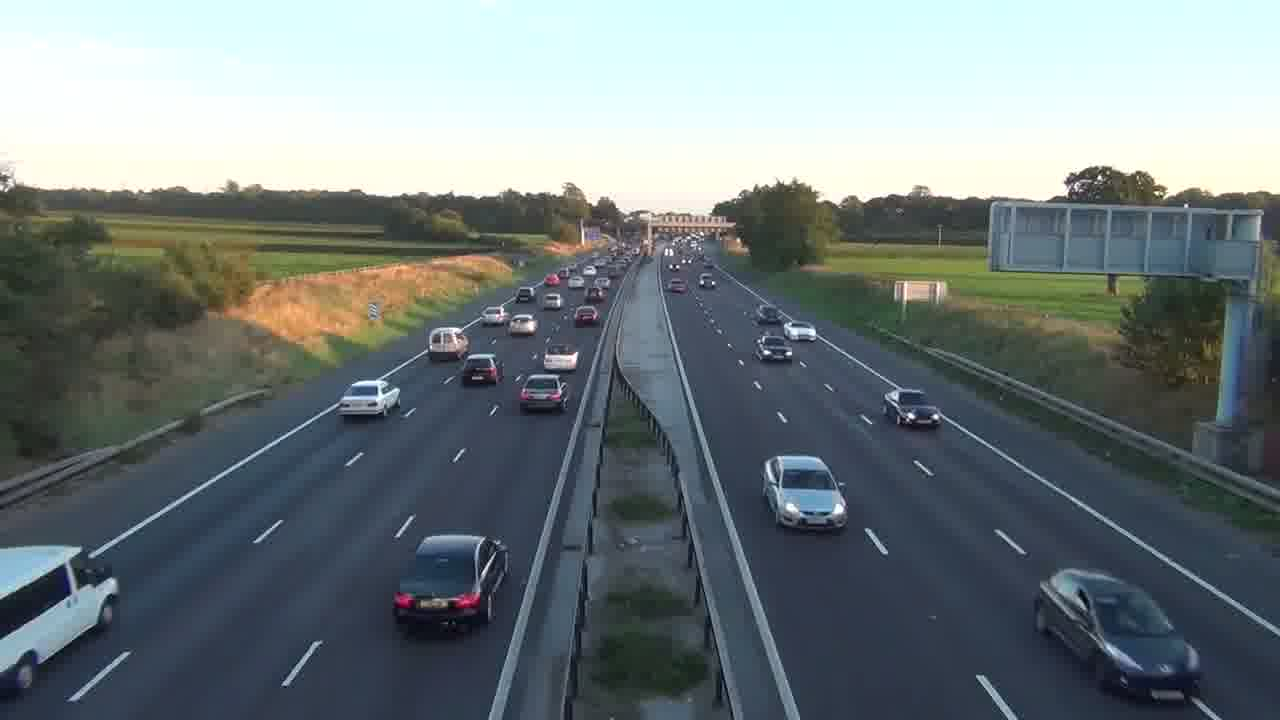car: (1033, 566, 1203, 701), (392, 532, 511, 638), (761, 454, 849, 532), (337, 378, 401, 418), (882, 387, 941, 428), (518, 373, 567, 414), (460, 354, 502, 386), (755, 333, 794, 363), (782, 320, 818, 341), (508, 313, 538, 336), (573, 305, 599, 327)
truck: (0, 544, 121, 694)
